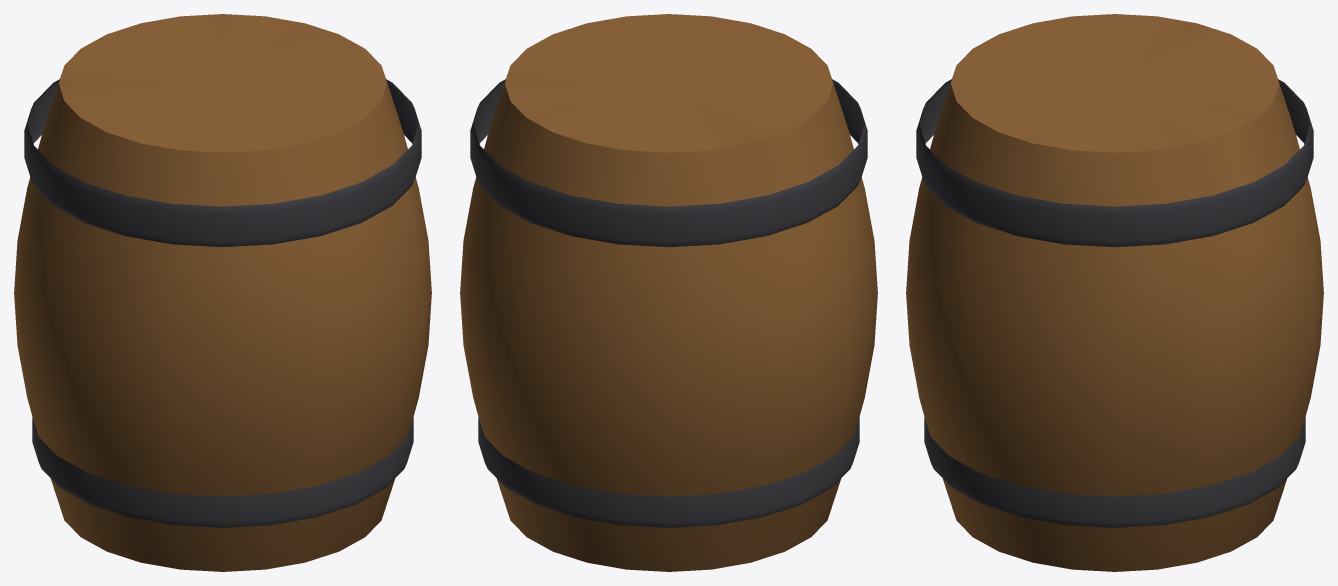
The model's file is barrel.glb.
3 views of the same model, side by side, from view 1: azimuth 30°, elevation 25°; view 2: azimuth 150°, elevation 25°; view 3: azimuth 270°, elevation 25° (orthographic).
Visible parts, largest first — view 1: barrel_main; view 2: barrel_main; view 3: barrel_main.
Part boxes in pixels (x1,y1,x2,y2): barrel_main: (14,14,431,571); barrel_main: (460,14,877,571); barrel_main: (906,14,1323,571).
Size of the model in its own units: 0.56 by 0.62 by 0.56.
